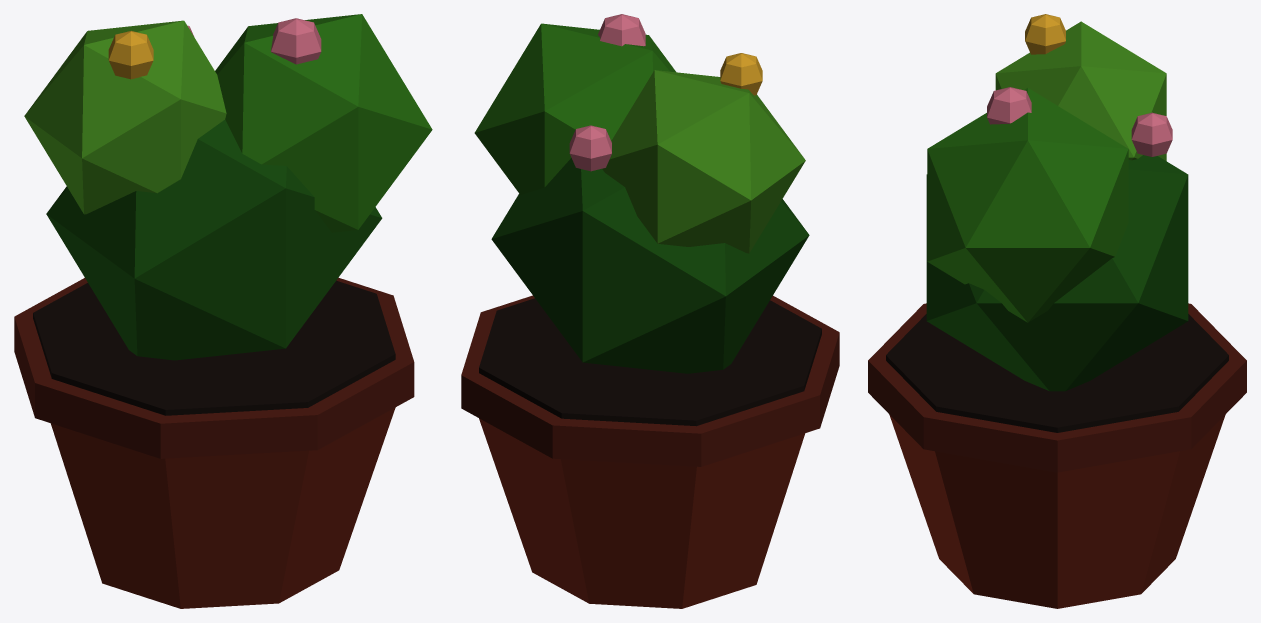
The model's file is chau_cay.glb.
The picture shows the model from 3 angles, left to right: view 1: azimuth 30°, elevation 25°; view 2: azimuth 150°, elevation 25°; view 3: azimuth 270°, elevation 25°; orthographic projection. The views are drawn at different scales.
Bounding box in the file's own units: 0.64 × 0.94 × 0.64.
